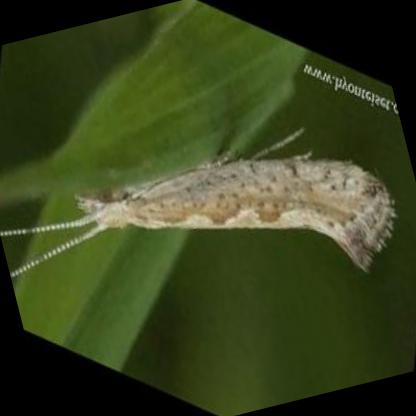plutella: (0, 117, 402, 280)
